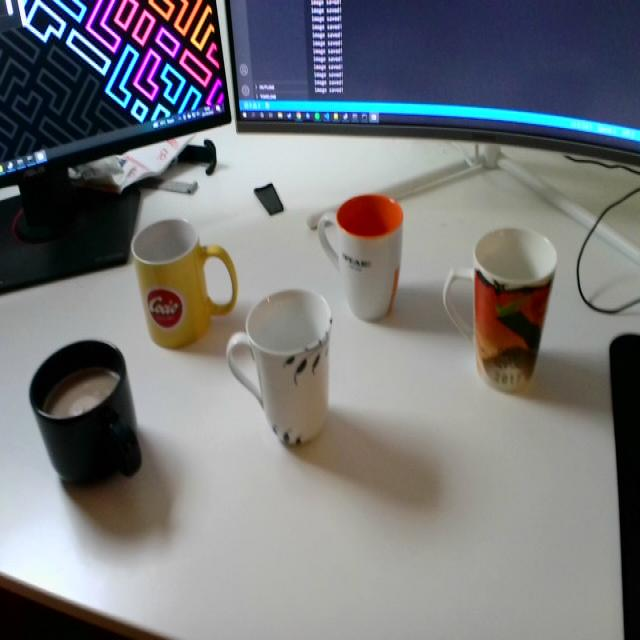Cocio Cup: (130, 218, 238, 352)
Cup: (28, 338, 142, 486)
Halloween cup: (468, 227, 559, 395)
Hand painted cup: (226, 291, 333, 445)
White Cup: (315, 194, 406, 322)
